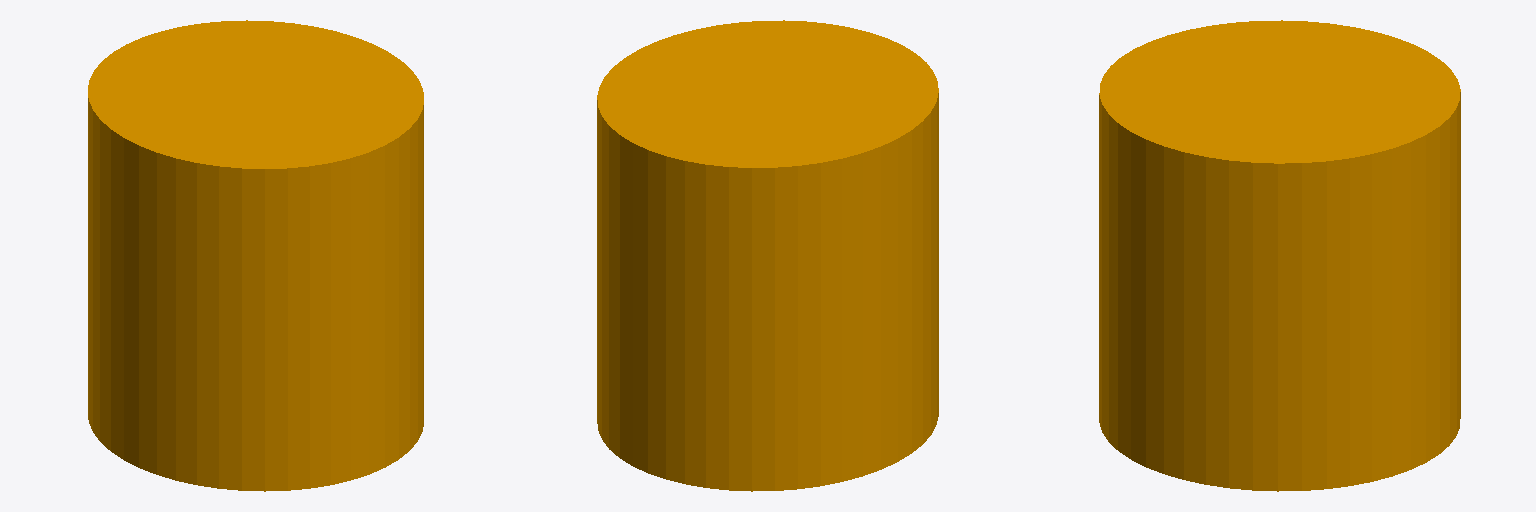
robot.urdf — object:
<?xml version="1.0"?>
<robot name="object">
  <link name="object">
    <visual>
      <origin xyz="0 0 0"/>
      <geometry>
        <mesh filename="meshes/generated/col_086.obj" scale="0.03 0.03 0.03"/>
      </geometry>
    </visual>
    <collision>
      <origin xyz="0 0 0"/>
      <geometry>
        <mesh filename="meshes/generated/col_086.obj" scale="0.03 0.03 0.03"/>
      </geometry>
    </collision>
    <inertial>
      <density value="1000.0"/>
    </inertial>
  </link>
</robot>

--- What the picture shows (computed from the rendered views, not written in the file) ---
Views: 3 orthographic renders of the robot side by side, from view 1: azimuth 30°, elevation 25°; view 2: azimuth 150°, elevation 25°; view 3: azimuth 270°, elevation 25°.
Model object with 1 links and 0 joints (none), rooted at object, posed every joint at zero.
Links seen in each view (by area): view 1: object; view 2: object; view 3: object.
Boxes of the visible links, x1,y1,x2,y2 form: object: [88, 20, 423, 491]; object: [597, 20, 938, 491]; object: [1099, 20, 1460, 491].
Size in the robot's own frame: 0.0562 by 0.0599 by 0.06 metres.
1 mesh visuals loaded from 1 distinct referenced files (1 OBJ).
